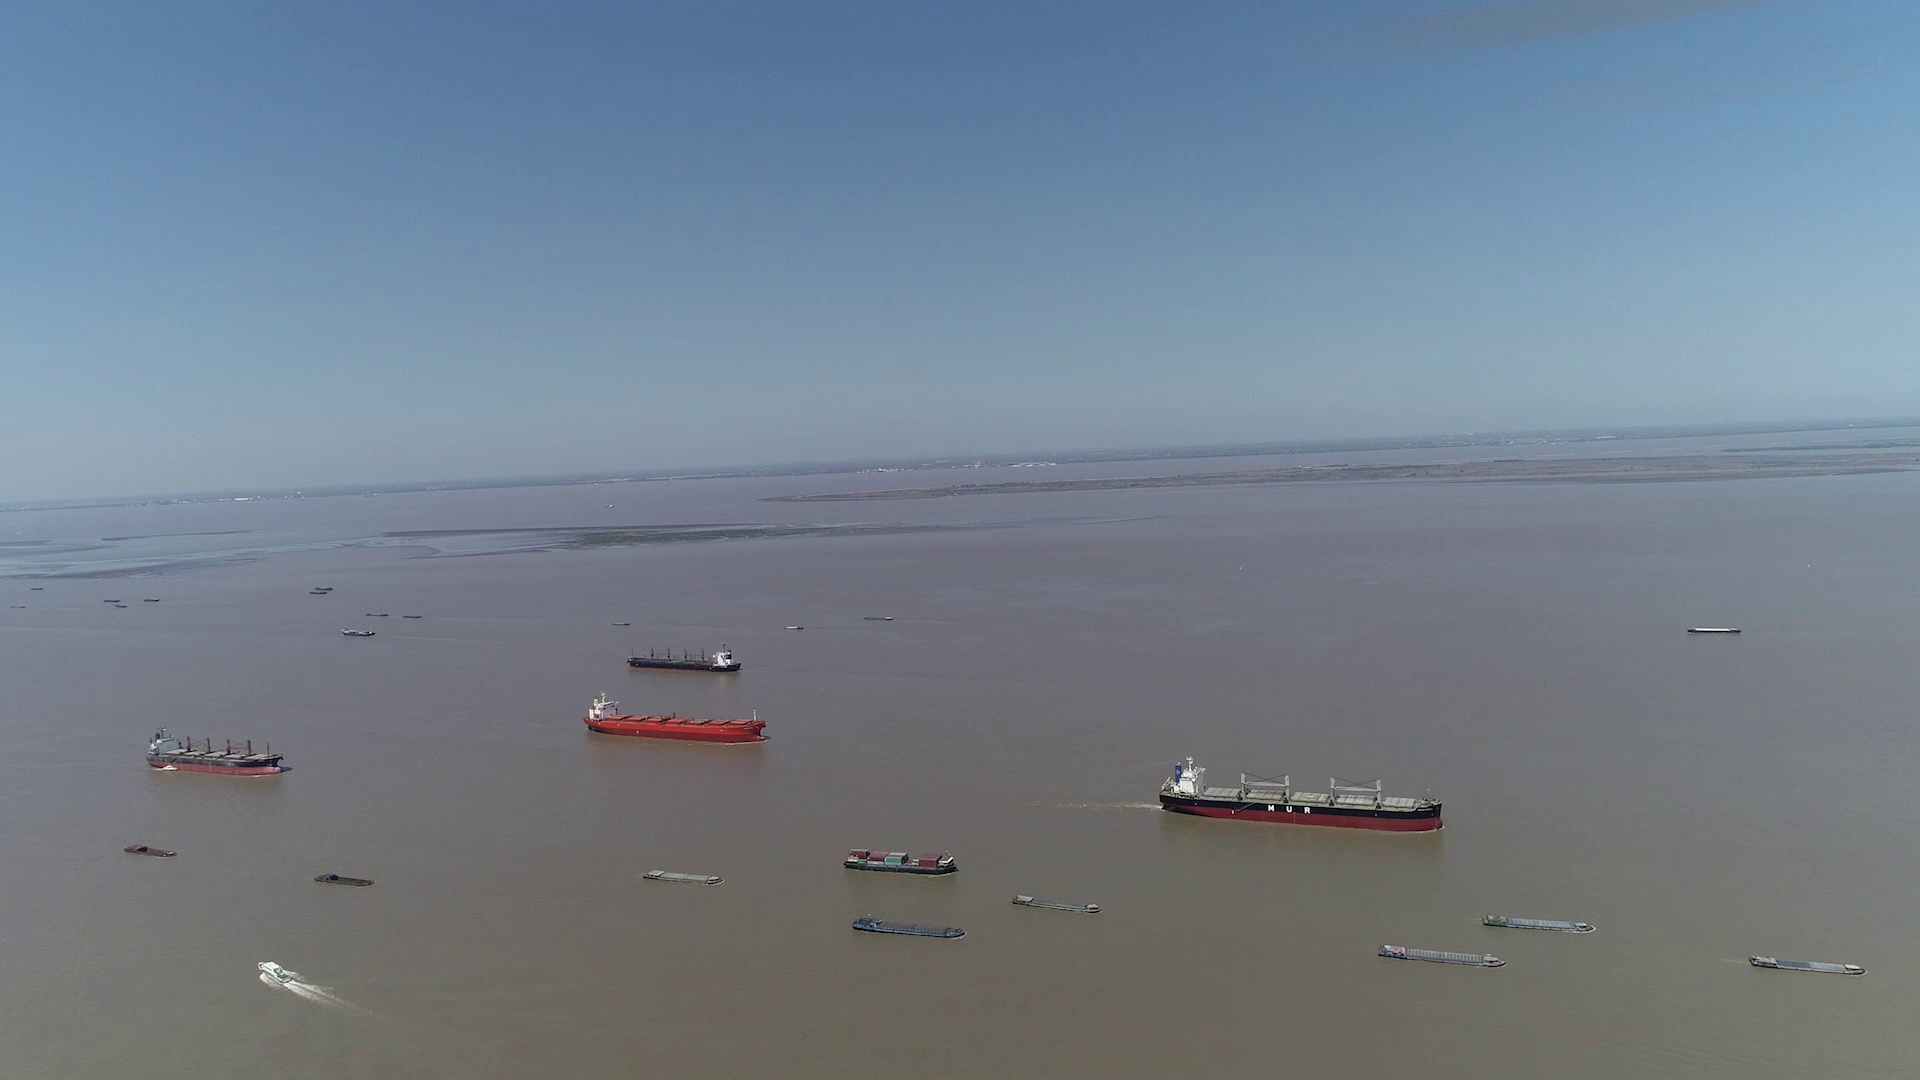ship: (1156, 757, 1444, 831), (584, 694, 766, 742), (150, 727, 284, 775), (1378, 942, 1509, 968), (625, 644, 742, 673), (843, 847, 957, 874), (1749, 953, 1869, 975), (851, 916, 965, 938), (1484, 913, 1596, 934), (1014, 893, 1102, 913), (640, 869, 723, 885), (313, 873, 377, 886), (256, 961, 293, 984), (121, 844, 173, 858), (1687, 625, 1741, 634), (342, 629, 377, 637)
